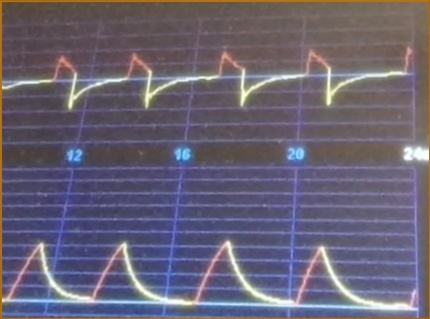Normal Flow: (3, 35, 413, 128)
Normal Volume: (4, 231, 415, 312)
